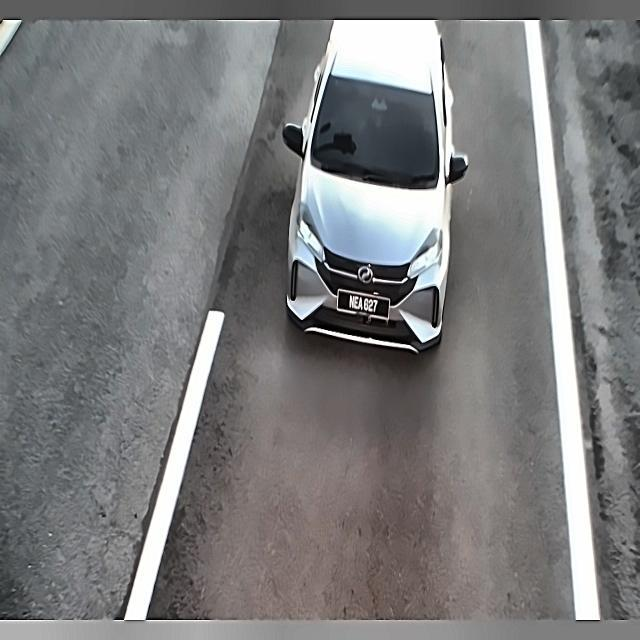car: (334, 280, 393, 327)
